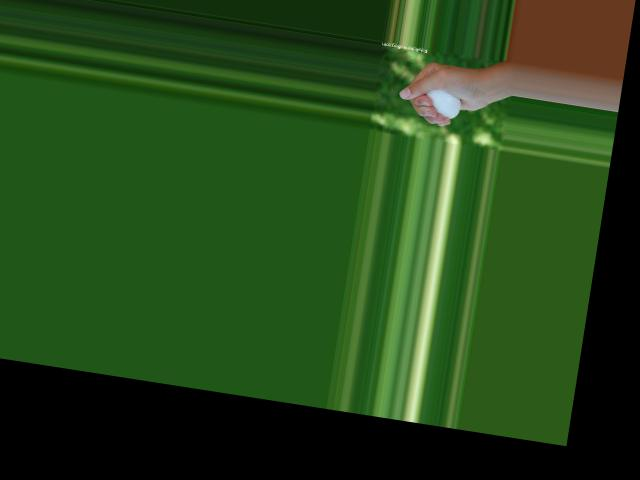egg: (421, 88, 462, 119)
